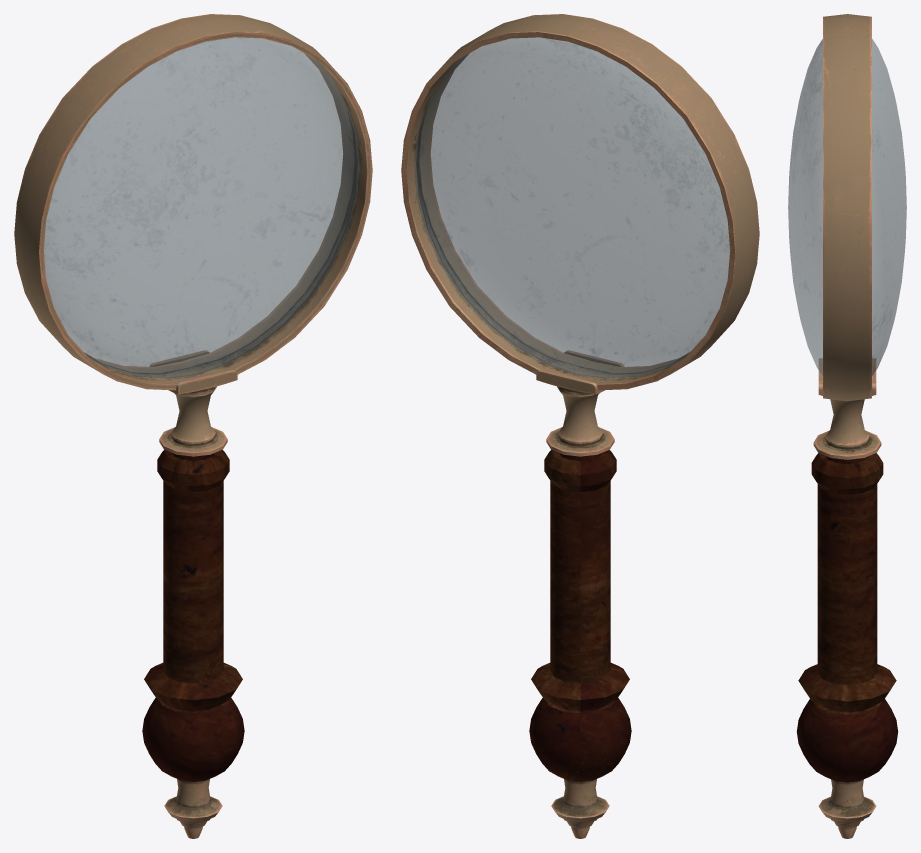
Rendered from magnifying-glass.glb.
3 views of the same model, side by side, from view 1: azimuth 30°, elevation 25°; view 2: azimuth 150°, elevation 25°; view 3: azimuth 270°, elevation 25° (orthographic).
Parts seen in each view (by area): view 1: lupe_glass_low, lupe_grip_low, lupe_frame_low; view 2: lupe_glass_low, lupe_grip_low, lupe_frame_low; view 3: lupe_grip_low, lupe_frame_low, lupe_glass_low.
Boxes of the visible parts, box(x1,y1,x2,y2) form: lupe_glass_low: box(43, 37, 359, 378); lupe_grip_low: box(142, 350, 244, 838); lupe_frame_low: box(14, 14, 372, 390); lupe_glass_low: box(414, 37, 730, 378); lupe_grip_low: box(529, 350, 631, 838); lupe_frame_low: box(401, 14, 759, 390); lupe_grip_low: box(796, 358, 898, 838); lupe_frame_low: box(823, 14, 871, 401); lupe_glass_low: box(788, 39, 906, 375).
Bounding box in the file's own units: 54.06 × 124 × 16.54.
1 material, 1 textured.
